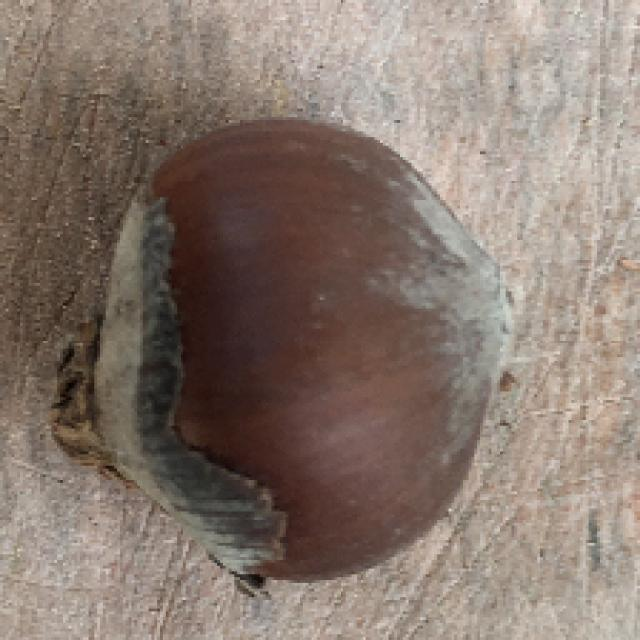damagedHazelnut: (57, 115, 525, 589)
